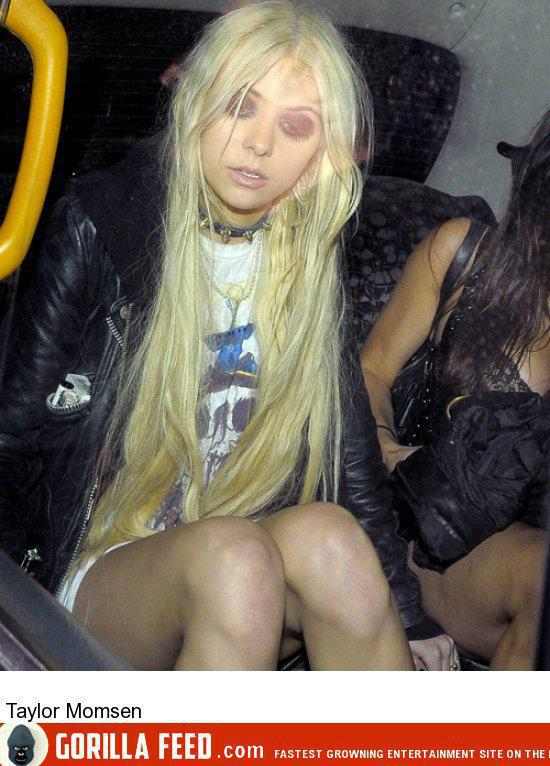Drunk: (206, 55, 320, 204)
